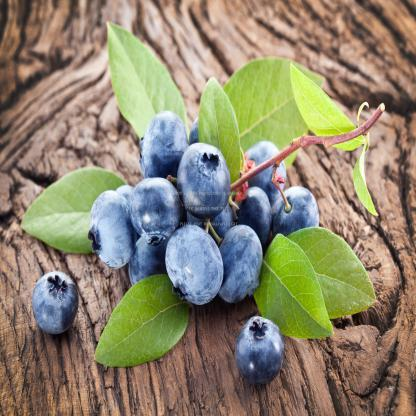Blueberry leaf: (257, 215, 397, 357), (22, 160, 136, 256), (93, 270, 194, 376)
